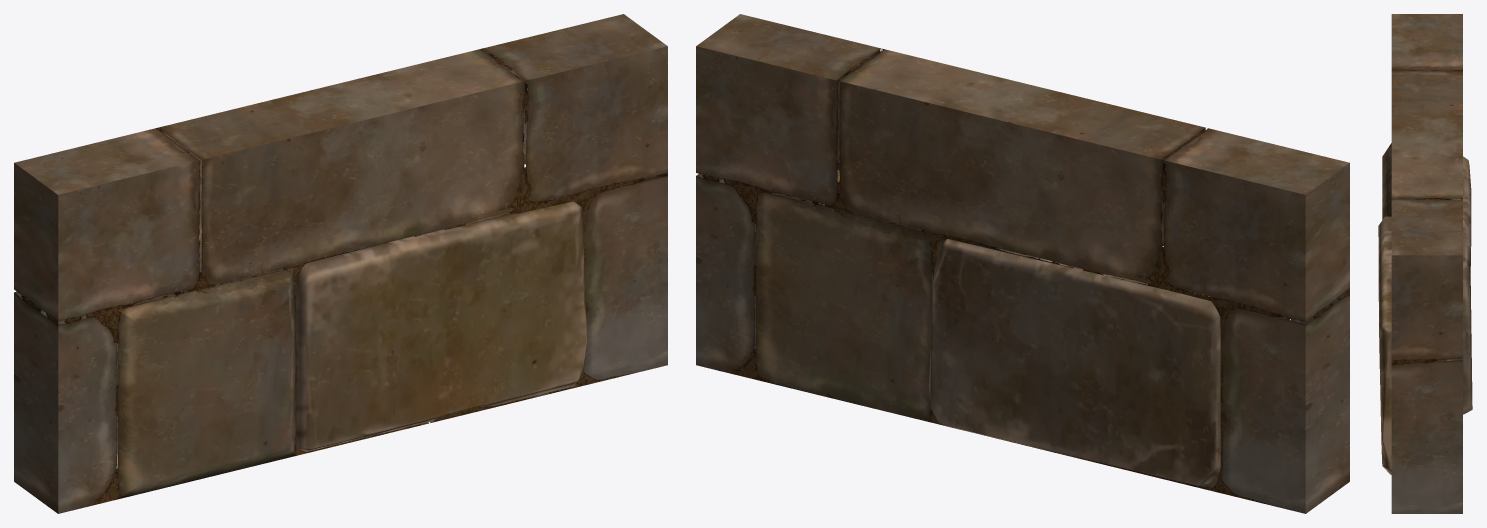
3 renders of one model, left to right at view 1: azimuth 30°, elevation 25°; view 2: azimuth 150°, elevation 25°; view 3: azimuth 270°, elevation 25°, orthographic. The views are drawn at different scales.
Visible parts, largest first — view 1: SM_Vault_4x2m_Wall_01_V2_LOD0; view 2: SM_Vault_4x2m_Wall_01_V2_LOD0; view 3: SM_Vault_4x2m_Wall_01_V2_LOD0.
Boxes of the visible parts, <box> form: SM_Vault_4x2m_Wall_01_V2_LOD0: <box>14,14,667,513</box>; SM_Vault_4x2m_Wall_01_V2_LOD0: <box>696,14,1349,513</box>; SM_Vault_4x2m_Wall_01_V2_LOD0: <box>1378,14,1472,513</box>.
Size of the model in its own units: 4 by 2 by 0.6594.
2 materials, 2 textured.
